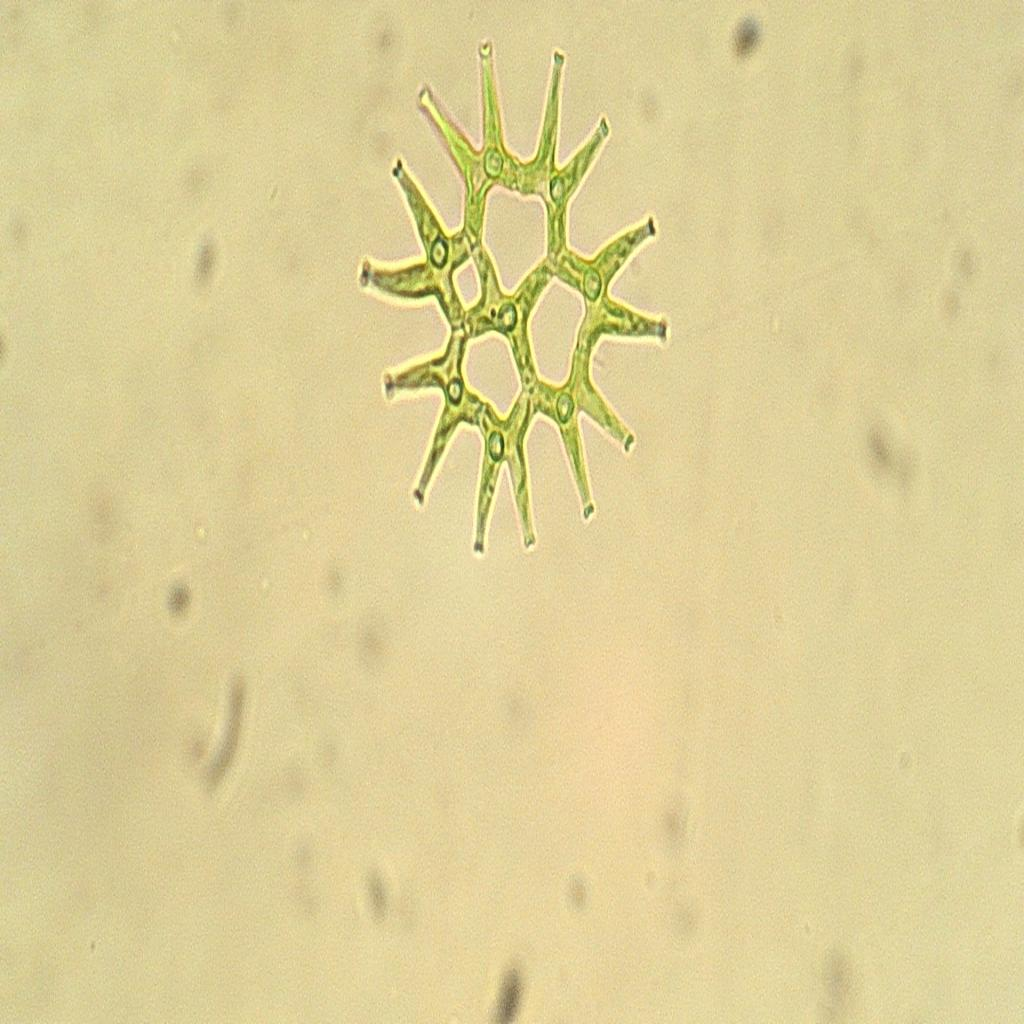Pediastrum_1T: (349, 33, 686, 583)
